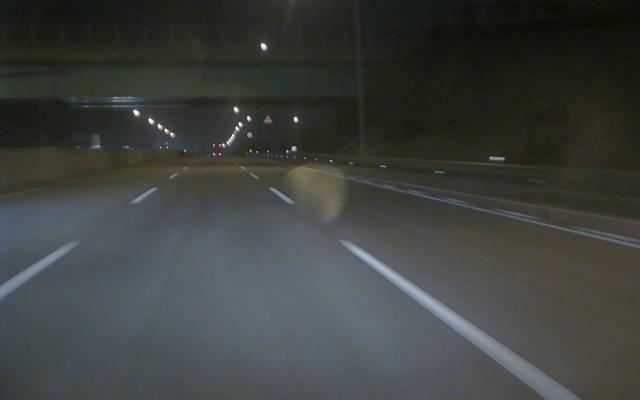lane: (273, 188, 579, 399), (357, 177, 640, 250), (1, 190, 153, 299)
